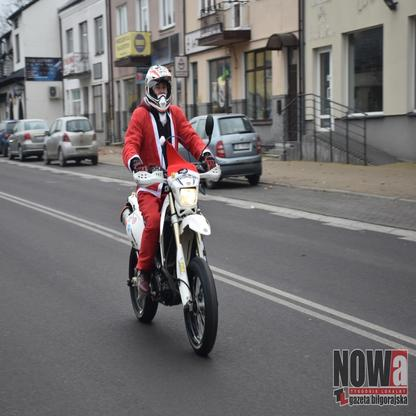target: (120, 65, 228, 358)
